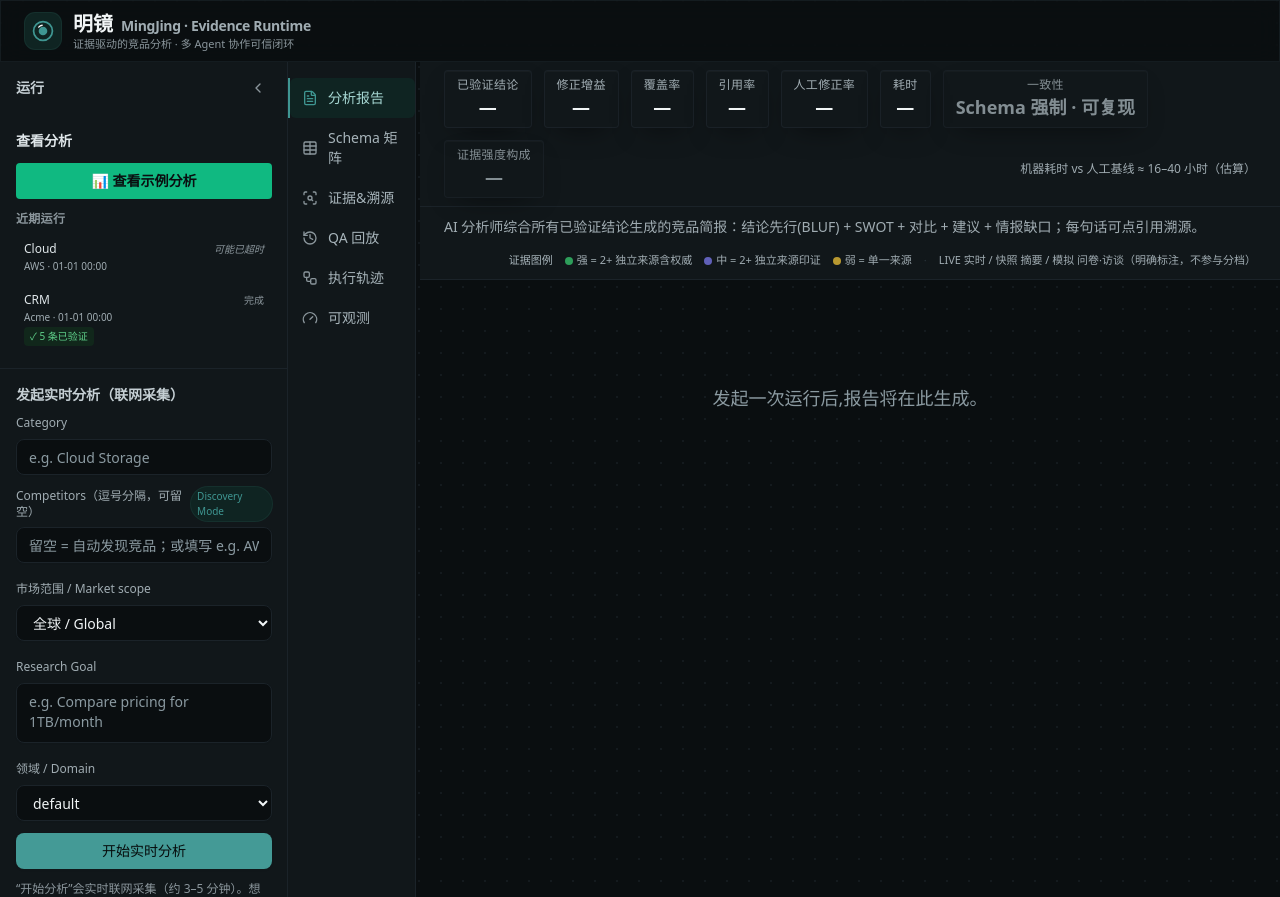
Scenario: 查看示例分析 + 近期运行 › clicking a 近期运行 row loads that run id
This screenshot has width=1280, height=897.
Click the button with test id "recent-run-run-newest-no-claims" at (144,258), box [16,235,272,282]
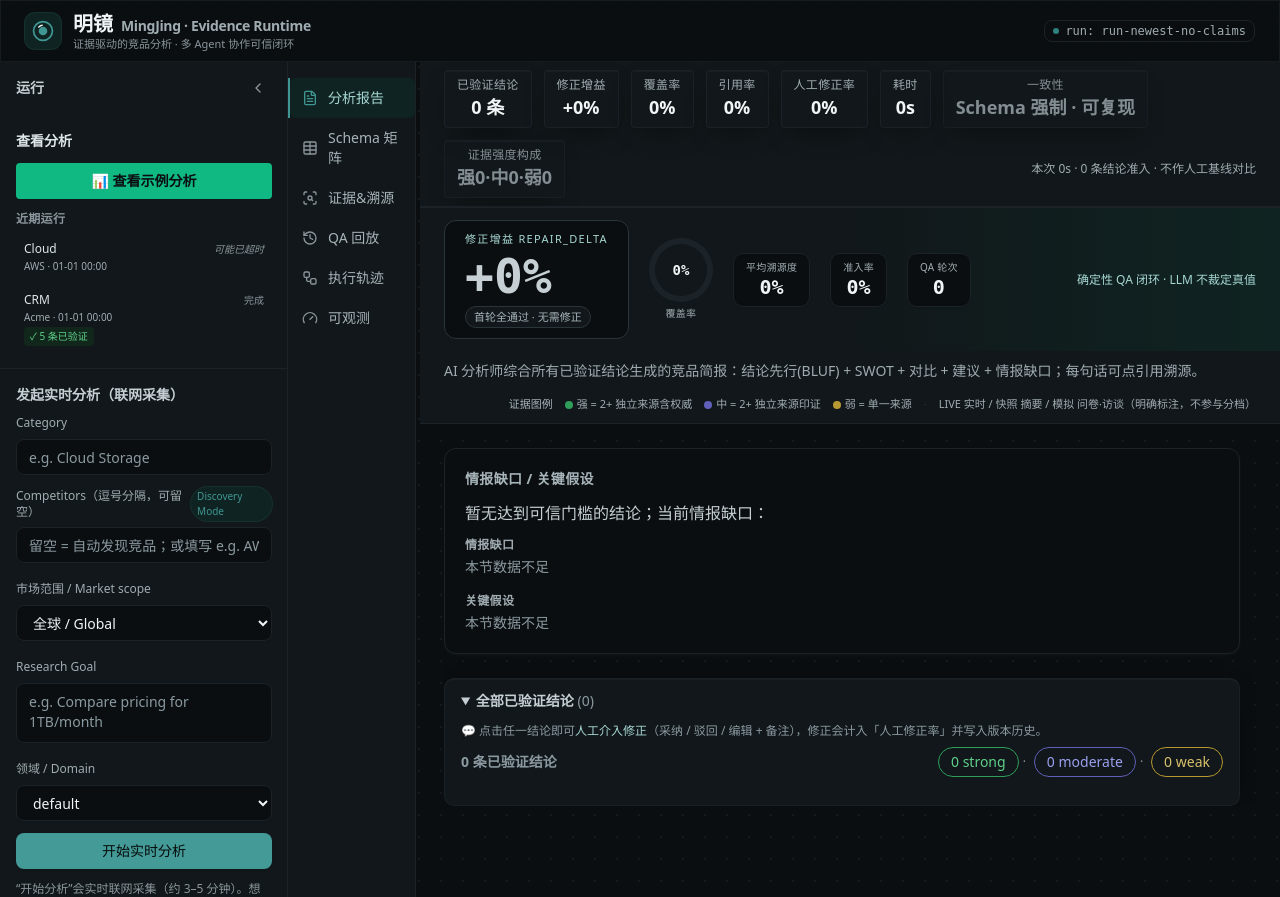
Now the text "run: run-newest-no-claims" is shown, box [1044,20,1255,42]
